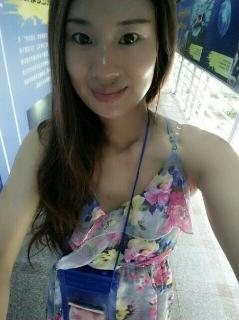sling: (46, 116, 195, 319)
